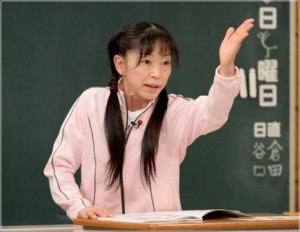face: (113, 40, 172, 100)
hand: (218, 18, 255, 72), (77, 204, 116, 221)
